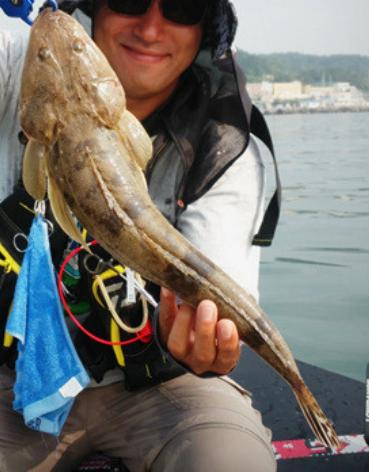fish: (18, 10, 344, 454)
